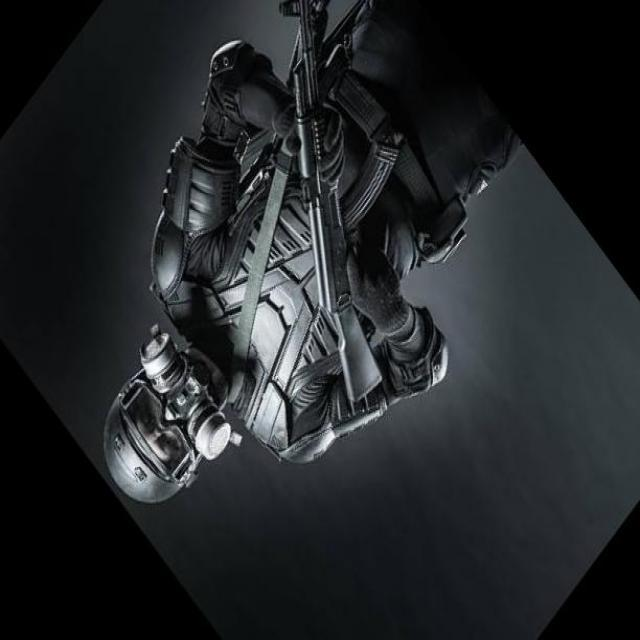weapon: (278, 0, 399, 404)
